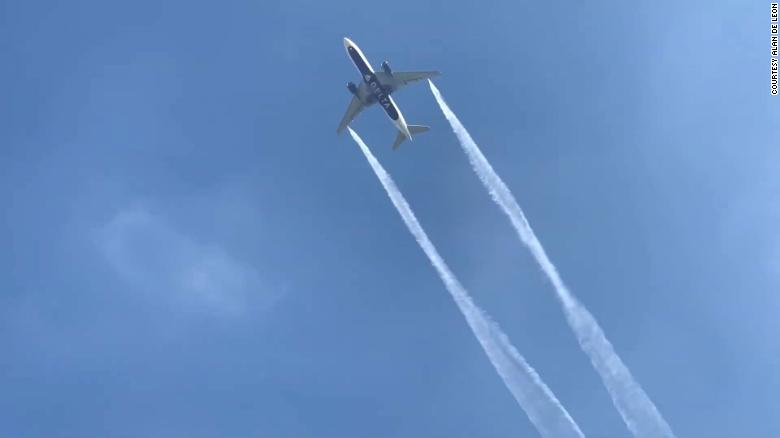plane: (333, 35, 442, 153)
